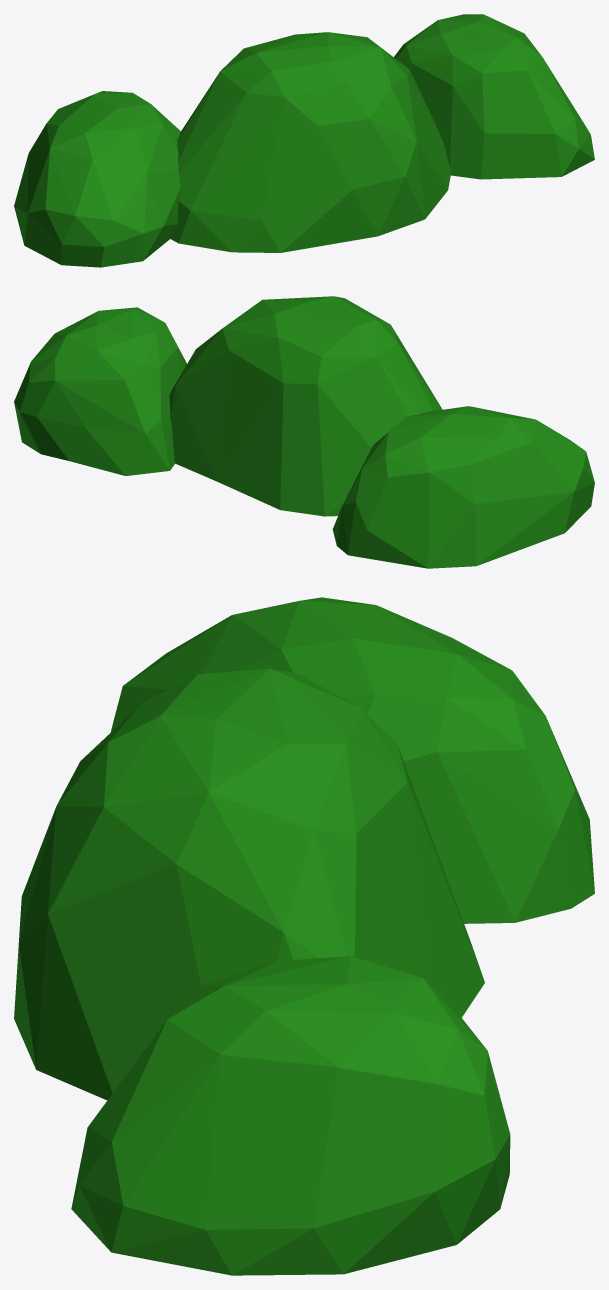
File: Bushes.fbx
3 renders of one model, top to bottom at view 1: azimuth 30°, elevation 25°; view 2: azimuth 150°, elevation 25°; view 3: azimuth 270°, elevation 25°, orthographic. The views are drawn at different scales.
Parts seen in each view (by area): view 1: Bushes; view 2: Bushes; view 3: Bushes.
Part boxes in pixels (<box>): Bushes: <box>14,14,594,267</box>; Bushes: <box>14,296,594,568</box>; Bushes: <box>14,597,594,1275</box>.
Bounding box in the file's own units: 373 × 104 × 176.
